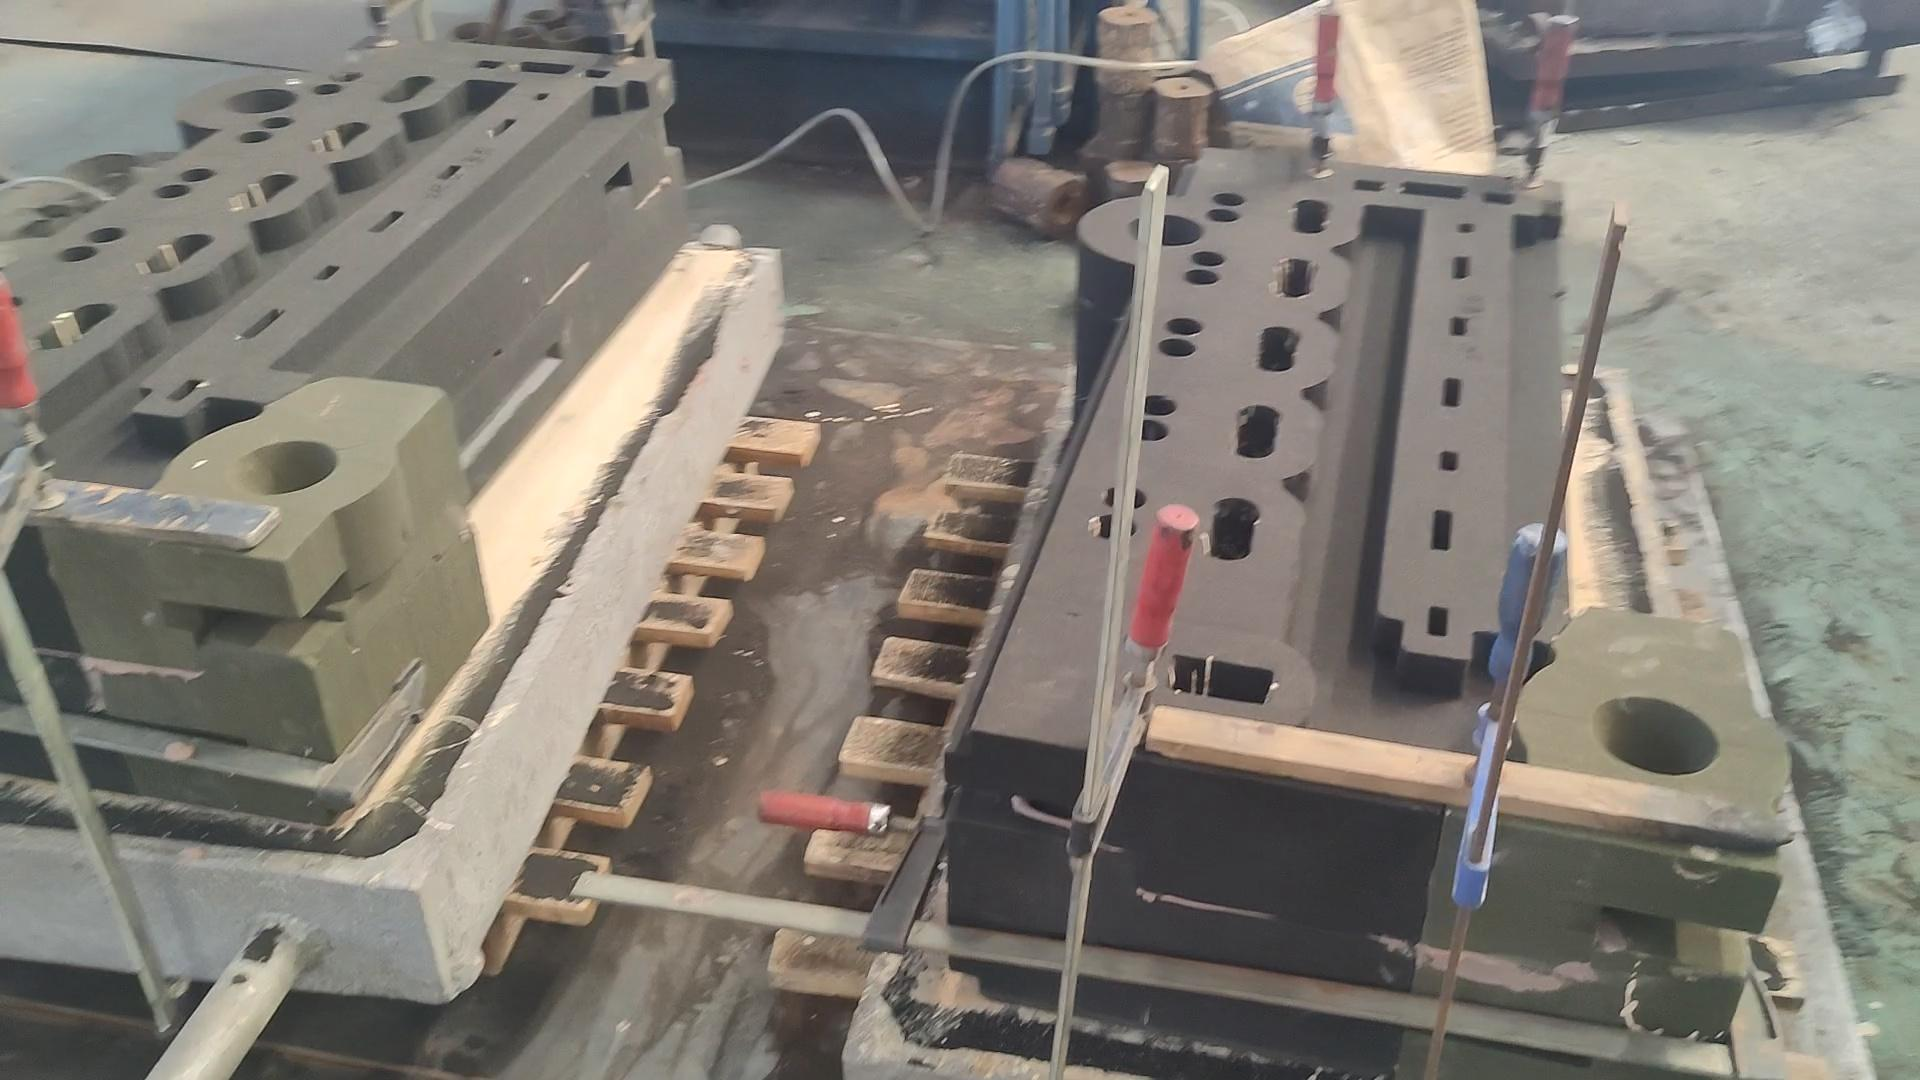pouring hole: (1589, 695, 1722, 778), (231, 438, 339, 498), (1125, 212, 1204, 249), (222, 87, 301, 113), (498, 22, 538, 44), (545, 25, 588, 44), (447, 20, 487, 40), (522, 7, 560, 20)
